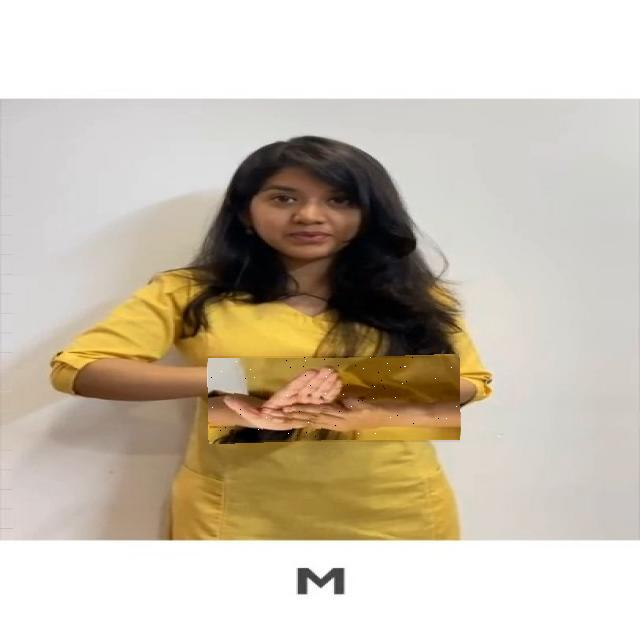M: (208, 356, 460, 442)
